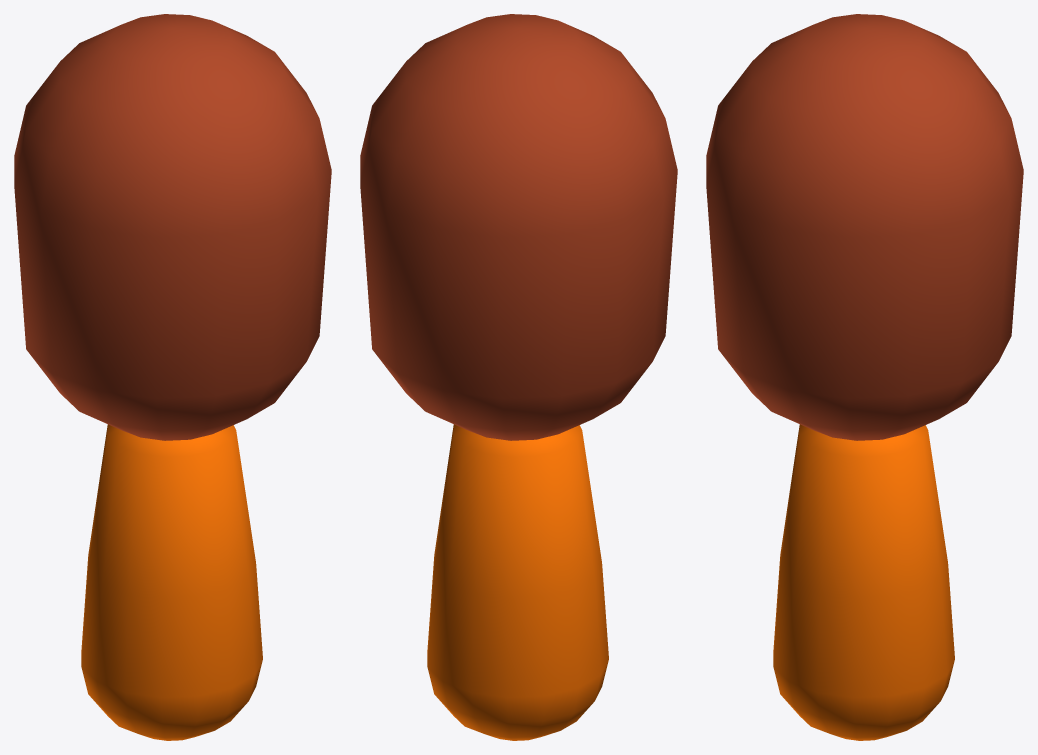
Rendered from mdl_miis_tempmii1.glb.
3 renders of one model, left to right at view 1: azimuth 30°, elevation 25°; view 2: azimuth 150°, elevation 25°; view 3: azimuth 270°, elevation 25°, orthographic.
Visible parts, largest first — view 1: head, Sphere; view 2: head, Sphere; view 3: head, Sphere.
Part boxes in pixels (box(x1,y1,x2,y2)): head: box(14, 14, 331, 440); Sphere: box(81, 424, 262, 740); head: box(360, 14, 677, 440); Sphere: box(427, 424, 608, 740); head: box(706, 14, 1023, 440); Sphere: box(773, 424, 954, 740).
Bounding box in the file's own units: 0.5338 × 1.3 × 0.5308.
